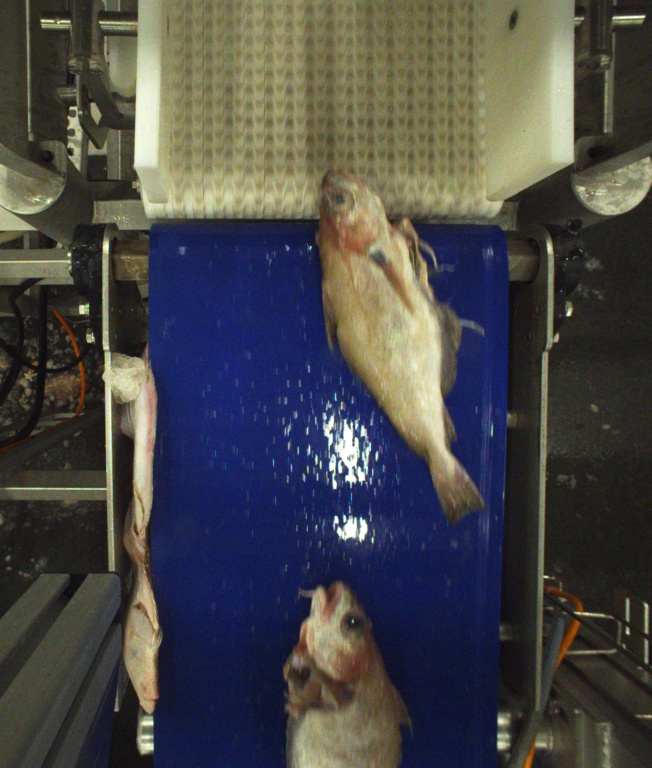BIB: (318, 169, 487, 524)
